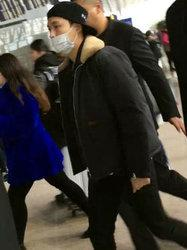NONE: (32, 46, 43, 64)
WRONG: (49, 18, 77, 54)
